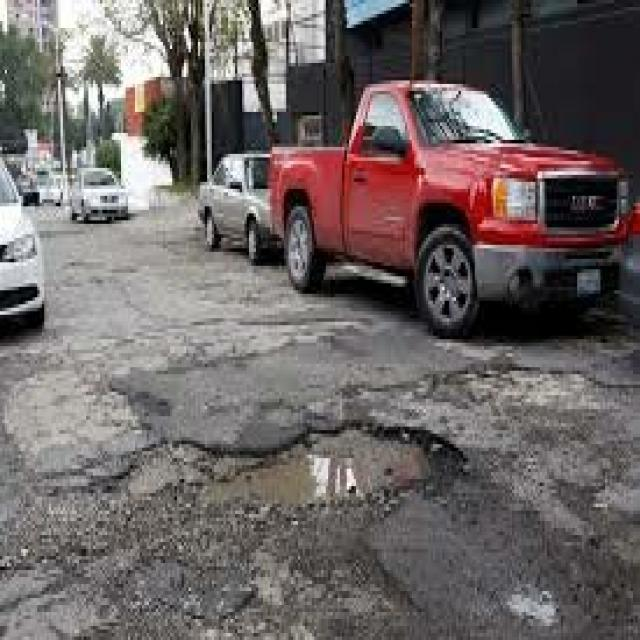Pothole: (81, 336, 594, 605)
